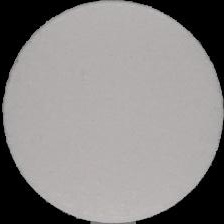68151-3565: (0, 0, 224, 224)
